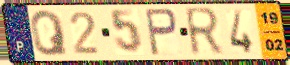2: (68, 10, 100, 56)
4: (228, 8, 257, 56)
5: (108, 8, 146, 58)
P: (143, 7, 180, 58)
Q: (28, 9, 70, 58)
R: (182, 6, 226, 59)
